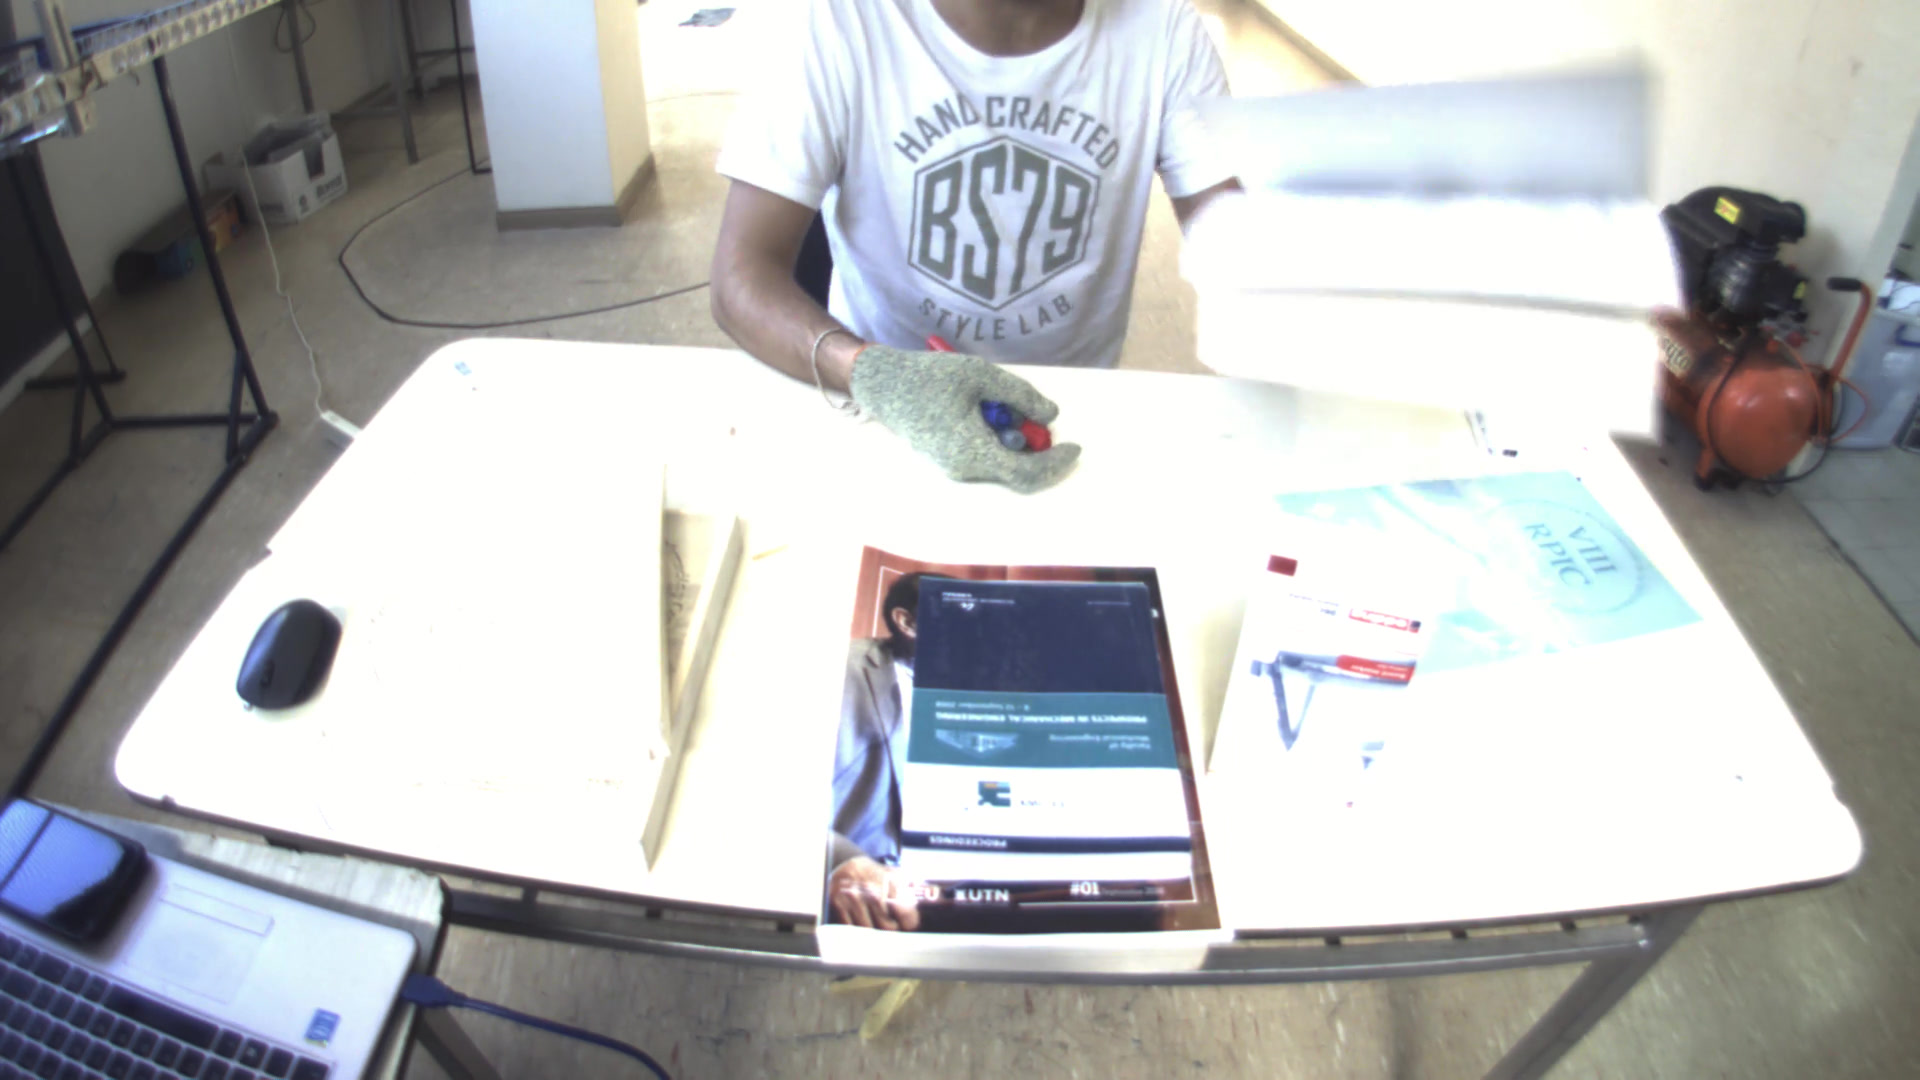hand: (839, 328, 1076, 496)
